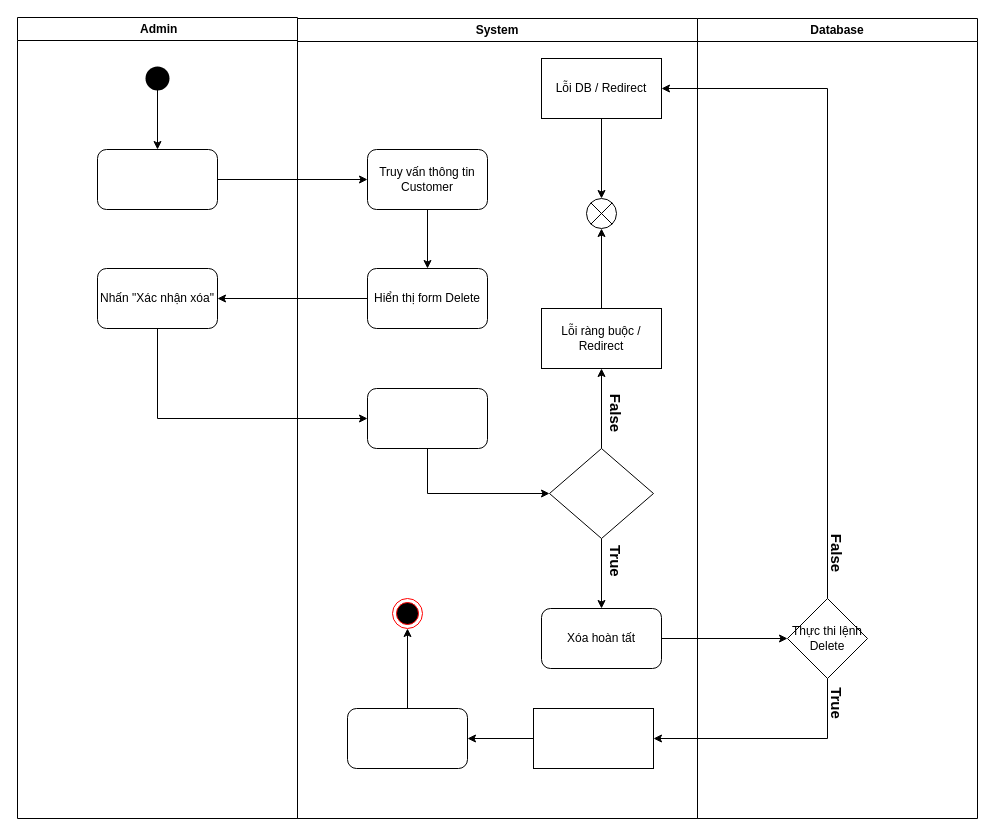
The diagram is 995 pixels wide and 836 high, and some of its shapes have lost their labels. Each missing label, with the centre of its shape:
Kiểm tra ràng buộc: (x=427, y=418)
Nhấn "Delete": (x=157, y=179)
Quay lại trang quản lý Customer: (x=407, y=738)
Thành công / redirect: (x=593, y=738)
Validate dữ liệu: (x=601, y=493)
